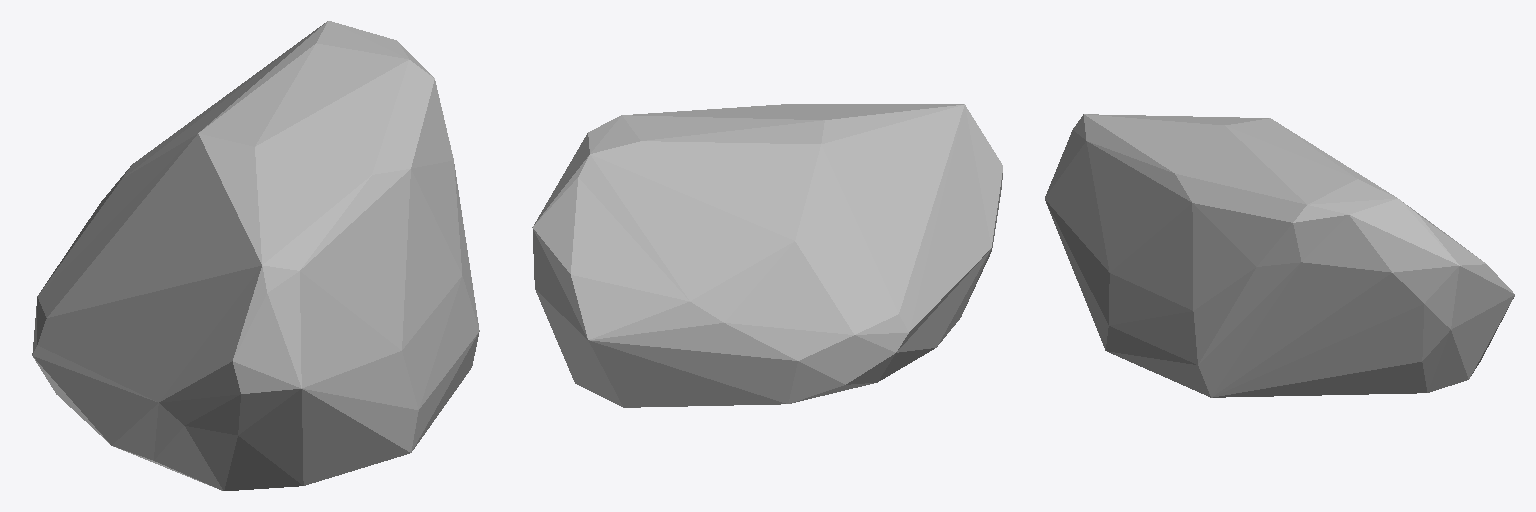
robot.urdf — root:
<robot name="root">
  <link name="object">
    <inertial>
      <mass value="0.1"/>
      <origin xyz="0 0 0" rpy="0 0 0"/>
      <inertia ixx="1.88E-01" ixy="-5.03E-02" ixz="-9.02E-03" iyy="1.47E-01" iyz="4.23E-03" izz="2.44E-01"/>
    </inertial>
    <visual>
      <origin xyz="0 0 0" rpy="0 0 0"/>
      <geometry>
        <mesh filename="decomposed_new1.obj" scale="1.0000E+00 1.0000E+00 1.0000E+00"/>
      </geometry>
      <material name="">
        <color rgba="7.50E-01 7.50E-01 7.50E-01 1"/>
      </material>
    </visual>
    <collision>
      <origin xyz="0 0 0" rpy="0 0 0"/>
      <geometry>
        <mesh filename="decomposed_new1.obj" scale="1.0000E+00 1.0000E+00 1.0000E+00"/>
      </geometry>
    </collision>
  </link>
</robot>

--- Facts derived from the render (not from the file) ---
The picture shows the robot from 3 angles, left to right: view 1: azimuth 30°, elevation 25°; view 2: azimuth 150°, elevation 25°; view 3: azimuth 270°, elevation 25°; orthographic projection.
Robot: root — 1 links, 0 joints (none); root link object; default pose: all joints at 0.
Links seen in each view (by area): view 1: object; view 2: object; view 3: object.
Boxes of the visible links, box(x1,y1,x2,y2) form: object: box(32, 21, 479, 490); object: box(532, 104, 1002, 407); object: box(1045, 114, 1514, 397).
Bounding box of the posed robot: 0.1126 × 0.1524 × 0.0723 m (x, y, z).
1 mesh visuals loaded from 1 distinct referenced files (1 OBJ).
